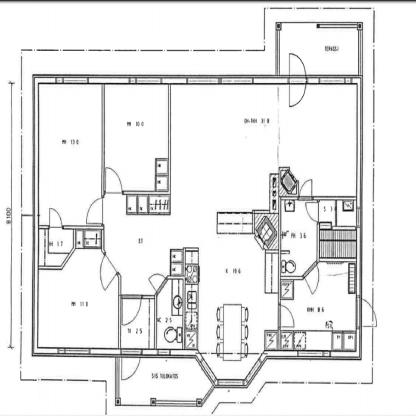door: (102, 80, 355, 376), (39, 83, 103, 227), (39, 248, 120, 349), (105, 84, 169, 190), (104, 84, 168, 188), (281, 262, 356, 348), (119, 356, 213, 408), (280, 24, 359, 73), (280, 199, 321, 277), (319, 199, 355, 259), (155, 278, 183, 350), (119, 296, 155, 349), (38, 226, 77, 270), (77, 229, 103, 249)
window: (288, 51, 306, 107), (356, 293, 377, 330), (98, 254, 119, 290), (120, 350, 142, 380), (303, 261, 321, 297), (121, 296, 142, 324), (104, 168, 123, 195), (86, 197, 104, 224), (277, 303, 296, 328), (304, 201, 321, 223), (148, 274, 166, 294), (298, 179, 314, 201), (48, 208, 62, 231)
zone: (188, 76, 253, 85), (244, 360, 263, 383), (198, 360, 216, 384), (56, 76, 88, 85), (58, 346, 90, 354), (320, 77, 352, 85), (130, 76, 160, 84), (218, 378, 242, 387), (299, 351, 331, 356), (157, 349, 169, 355)
